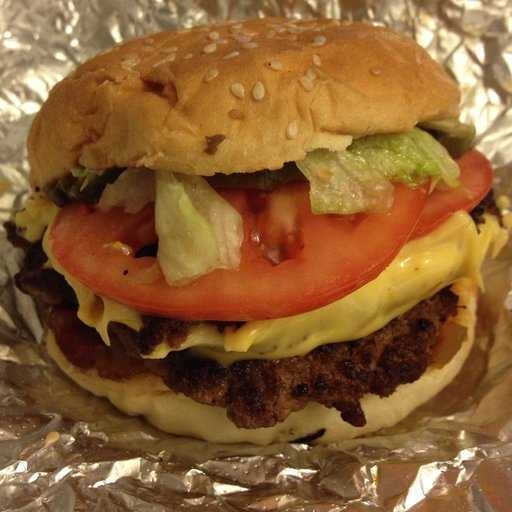hamburger: (22, 24, 456, 437)
